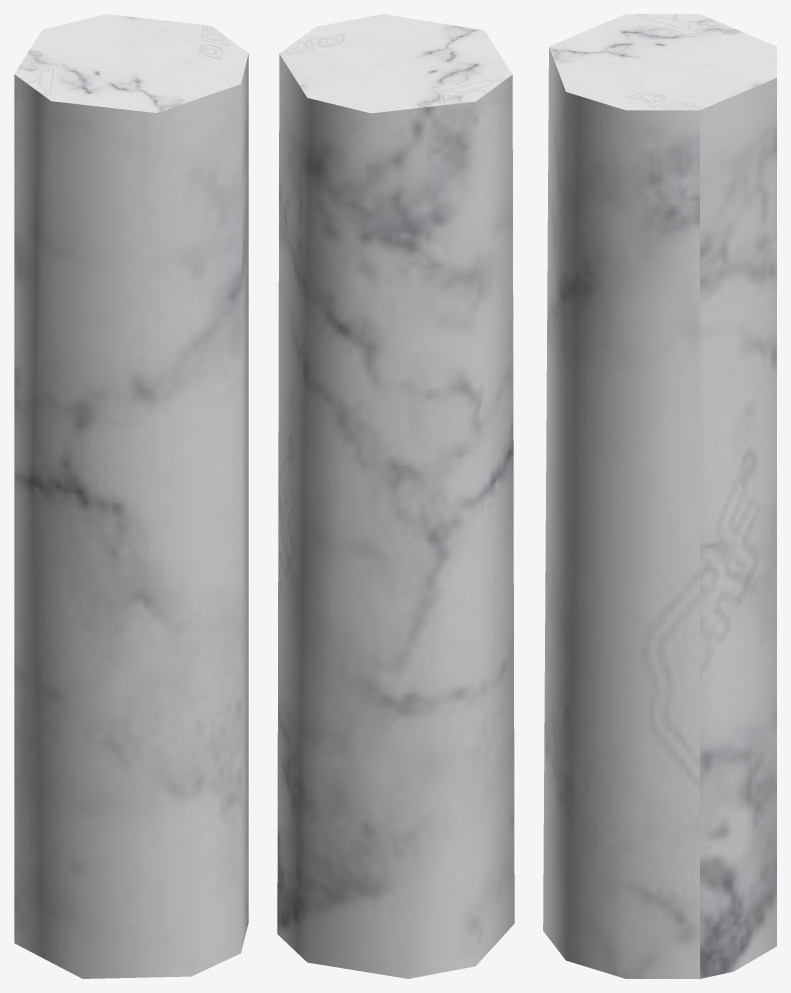
The model's file is pillar.obj.
3 views of the same model, side by side, from view 1: azimuth 30°, elevation 25°; view 2: azimuth 150°, elevation 25°; view 3: azimuth 270°, elevation 25° (orthographic).
Visible parts, largest first — view 1: pillar:pCylinder1; view 2: pillar:pCylinder1; view 3: pillar:pCylinder1.
Part boxes in pixels (left/top/right/bottom): pillar:pCylinder1: left=14, top=14, right=248, bottom=978; pillar:pCylinder1: left=277, top=14, right=514, bottom=978; pillar:pCylinder1: left=543, top=14, right=776, bottom=978.
Bounding box in the file's own units: 0.9511 × 4 × 0.9755.
Materials: 1 (1 with a texture image).
